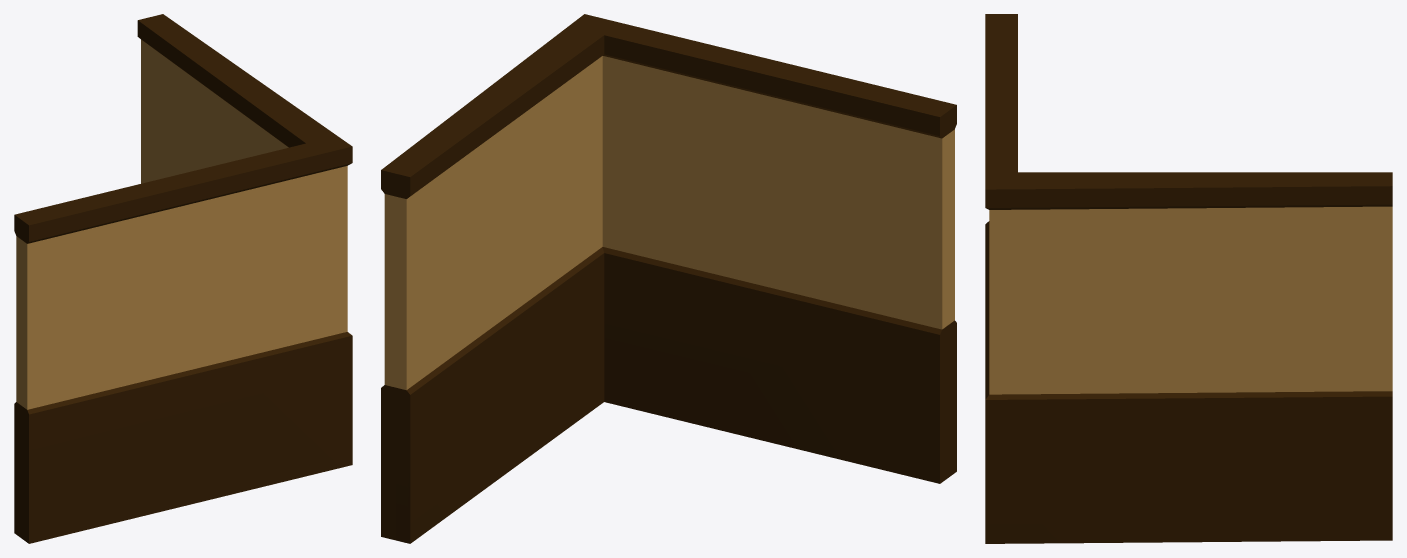
Rendered from Classic_Wall_Corner_snaps001.fbx.
3 views of the same model, side by side, from view 1: azimuth 30°, elevation 25°; view 2: azimuth 150°, elevation 25°; view 3: azimuth 270°, elevation 25° (orthographic). The views are drawn at different scales.
Parts seen in each view (by area): view 1: Classic_Wall_Corner_snaps001_frag_005, Classic_Wall_Corner_snaps001_frag_017, Classic_Wall_Corner_snaps001_frag_004, Classic_Wall_Corner_snaps001_frag_014, Classic_Wall_Corner_snaps001_frag_015, Classic_Wall_Corner_snaps001_frag_001, Classic_Wall_Corner_snaps001_frag_008, Classic_Wall_Corner_snaps001_frag_013, Classic_Wall_Corner_snaps001_frag_018, Classic_Wall_Corner_snaps001_frag_012, Classic_Wall_Corner_snaps001_frag_011, Classic_Wall_Corner_snaps001_frag_003; view 2: Classic_Wall_Corner_snaps001_frag_005, Classic_Wall_Corner_snaps001_frag_017, Classic_Wall_Corner_snaps001_frag_015, Classic_Wall_Corner_snaps001_frag_001, Classic_Wall_Corner_snaps001_frag_004, Classic_Wall_Corner_snaps001_frag_014, Classic_Wall_Corner_snaps001_frag_010, Classic_Wall_Corner_snaps001_frag_008, Classic_Wall_Corner_snaps001_frag_016, Classic_Wall_Corner_snaps001_frag_012, Classic_Wall_Corner_snaps001_frag_013, Classic_Wall_Corner_snaps001_frag_002 (+5 smaller); view 3: Classic_Wall_Corner_snaps001_frag_011, Classic_Wall_Corner_snaps001_frag_016, Classic_Wall_Corner_snaps001_frag_013, Classic_Wall_Corner_snaps001_frag_010, Classic_Wall_Corner_snaps001_frag_008, Classic_Wall_Corner_snaps001_frag_002, Classic_Wall_Corner_snaps001_frag_018, Classic_Wall_Corner_snaps001_frag_001, Classic_Wall_Corner_snaps001_frag_004, Classic_Wall_Corner_snaps001_frag_006, Classic_Wall_Corner_snaps001_frag_005, Classic_Wall_Corner_snaps001_frag_017.
Boxes of the visible parts, x1,y1,x2,y2 form: Classic_Wall_Corner_snaps001_frag_005: (14,180,231,416); Classic_Wall_Corner_snaps001_frag_017: (190,198,347,424); Classic_Wall_Corner_snaps001_frag_004: (216,321,352,491); Classic_Wall_Corner_snaps001_frag_014: (38,407,240,541); Classic_Wall_Corner_snaps001_frag_015: (14,320,116,543); Classic_Wall_Corner_snaps001_frag_001: (155,106,352,222); Classic_Wall_Corner_snaps001_frag_008: (137,14,191,180); Classic_Wall_Corner_snaps001_frag_013: (203,65,298,165); Classic_Wall_Corner_snaps001_frag_018: (164,34,235,173); Classic_Wall_Corner_snaps001_frag_012: (202,212,280,359); Classic_Wall_Corner_snaps001_frag_011: (325,223,347,329); Classic_Wall_Corner_snaps001_frag_003: (116,396,191,420); Classic_Wall_Corner_snaps001_frag_005: (734,58,956,311); Classic_Wall_Corner_snaps001_frag_017: (583,105,748,359); Classic_Wall_Corner_snaps001_frag_015: (841,234,956,483); Classic_Wall_Corner_snaps001_frag_001: (527,14,778,147); Classic_Wall_Corner_snaps001_frag_004: (561,247,725,425); Classic_Wall_Corner_snaps001_frag_014: (701,348,913,477); Classic_Wall_Corner_snaps001_frag_010: (381,336,472,543); Classic_Wall_Corner_snaps001_frag_008: (381,146,454,349); Classic_Wall_Corner_snaps001_frag_016: (432,212,527,439); Classic_Wall_Corner_snaps001_frag_012: (654,104,770,296); Classic_Wall_Corner_snaps001_frag_013: (460,58,562,234); Classic_Wall_Corner_snaps001_frag_002: (463,370,576,504); Classic_Wall_Corner_snaps001_frag_011: (989,252,1167,492); Classic_Wall_Corner_snaps001_frag_016: (1149,294,1348,491); Classic_Wall_Corner_snaps001_frag_013: (1072,172,1245,297); Classic_Wall_Corner_snaps001_frag_010: (1276,353,1392,541); Classic_Wall_Corner_snaps001_frag_008: (1298,172,1392,357); Classic_Wall_Corner_snaps001_frag_002: (1068,456,1292,543); Classic_Wall_Corner_snaps001_frag_018: (1224,172,1332,318); Classic_Wall_Corner_snaps001_frag_001: (985,90,1128,260); Classic_Wall_Corner_snaps001_frag_004: (985,369,1093,543); Classic_Wall_Corner_snaps001_frag_006: (1057,259,1150,357); Classic_Wall_Corner_snaps001_frag_005: (985,14,1017,317); Classic_Wall_Corner_snaps001_frag_017: (985,246,1007,369).
Bounding box in the file's own units: 125 × 118 × 123.
